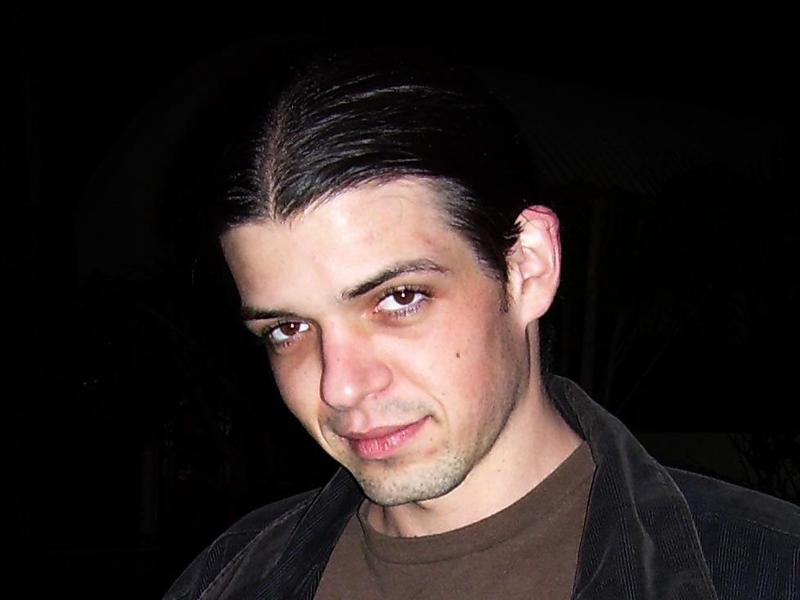person: (167, 77, 800, 599)
